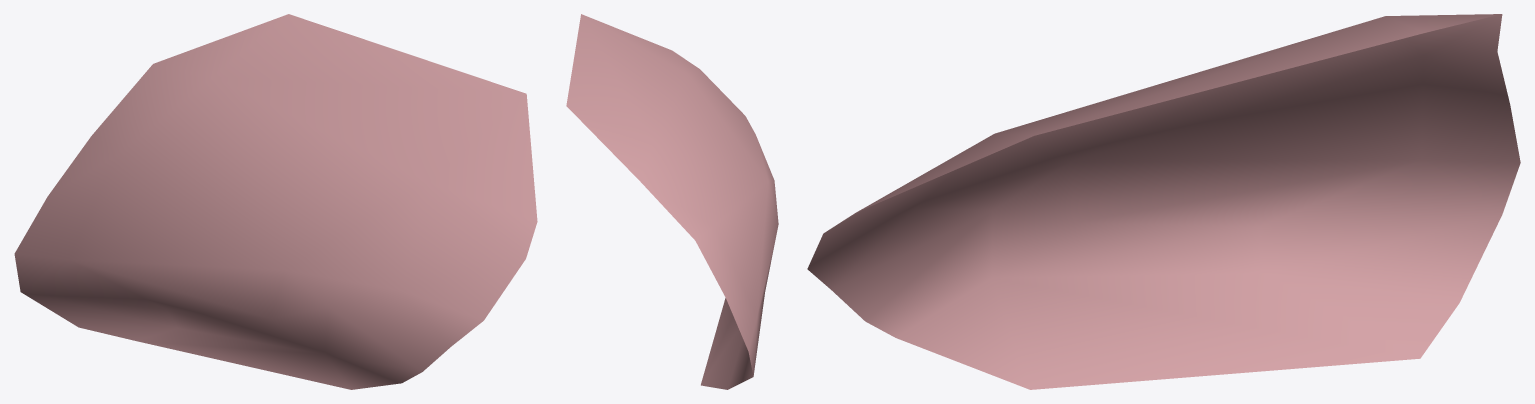
3 views of the same model, side by side, from view 1: azimuth 30°, elevation 25°; view 2: azimuth 150°, elevation 25°; view 3: azimuth 270°, elevation 25° (orthographic). The views are drawn at different scales.
Visible parts, largest first — view 1: ZA_9f7ebb43c6461ea0; view 2: ZA_9f7ebb43c6461ea0; view 3: ZA_9f7ebb43c6461ea0.
Boxes of the visible parts, box(x1,y1,x2,y2) form: ZA_9f7ebb43c6461ea0: box(14, 14, 537, 389); ZA_9f7ebb43c6461ea0: box(566, 14, 778, 389); ZA_9f7ebb43c6461ea0: box(807, 14, 1520, 389).
Size of the model in its own units: 0.00488 by 0.0038 by 0.00557.
